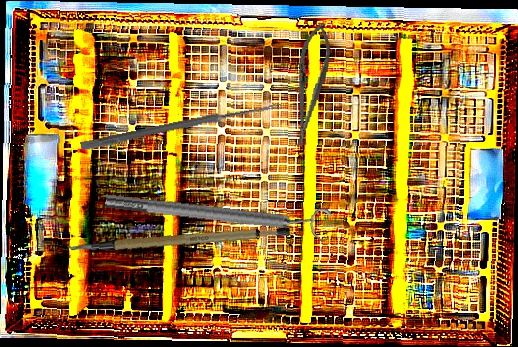Fixation Ring: (103, 181, 332, 245)
Needle Holder: (284, 20, 336, 150)
Scalpel Handle: (66, 208, 291, 267)
Surgical Spoon: (80, 99, 282, 153)
